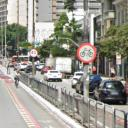speed_limit_40: (30, 49, 38, 57)
